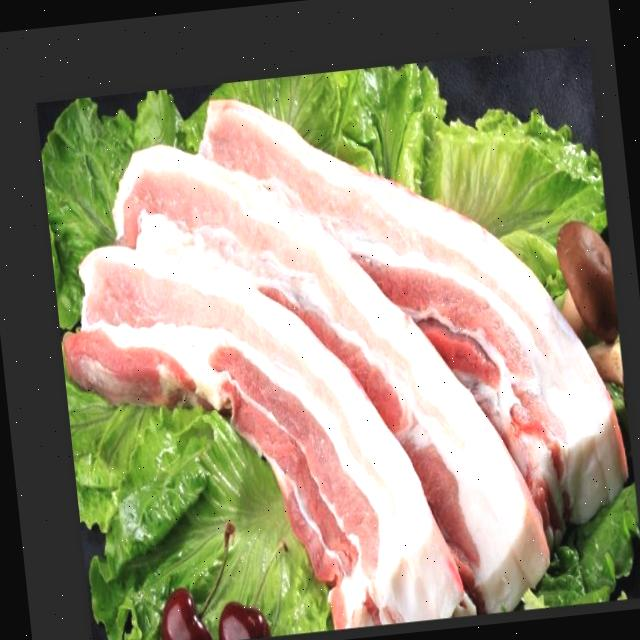meat: (76, 51, 634, 640)
